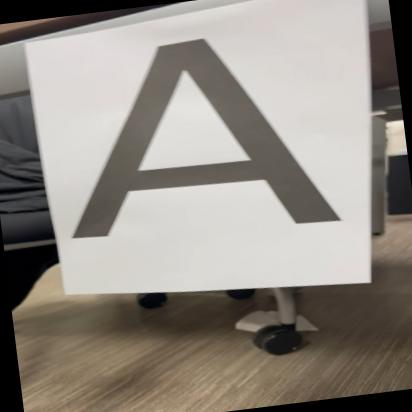seat: (42, 21, 342, 256)
